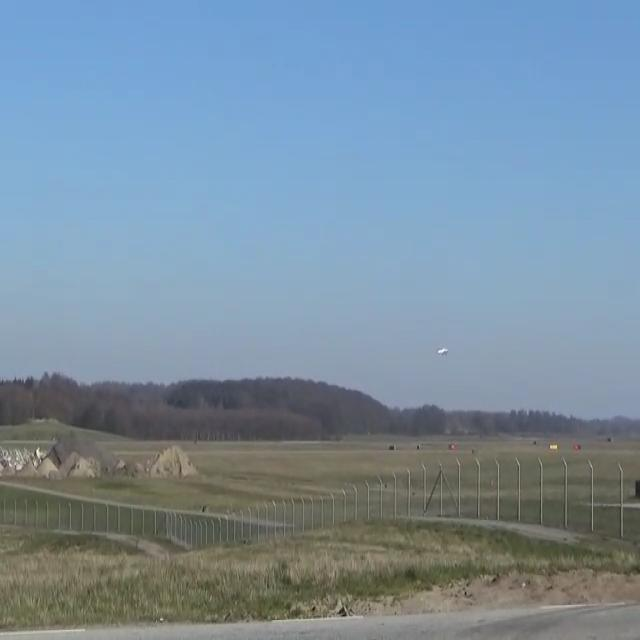AirPlane: (424, 334, 459, 368)
